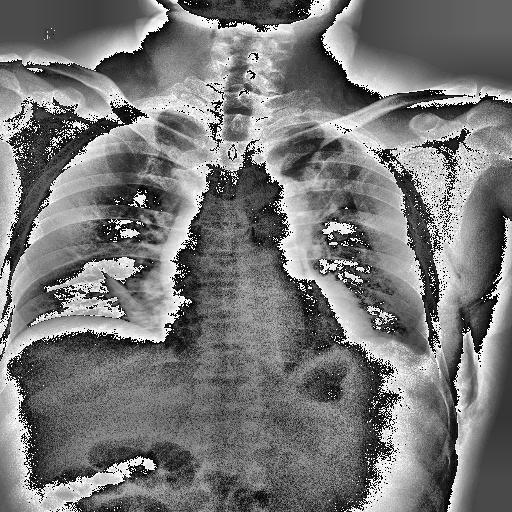0- Aortic enlargement: (234, 175, 312, 244), (236, 176, 308, 236), (255, 174, 311, 236)
1- Atelectasis: (95, 262, 159, 332)
13- Pulmonary fibrosis: (95, 262, 159, 332), (96, 262, 160, 328), (58, 233, 88, 263)
3- Cardiomegaly: (124, 282, 372, 360)
4- Consolidation: (300, 148, 356, 202)
6- Infiltration: (301, 150, 352, 212)
7- Lung Opacity: (300, 148, 356, 202)
9- Other lesion: (441, 244, 500, 420), (448, 266, 504, 447), (99, 269, 159, 329)
